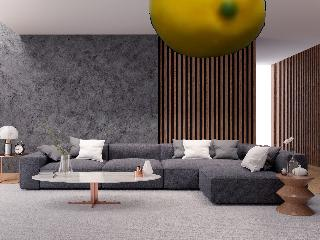lemon: (150, 0, 266, 59)
